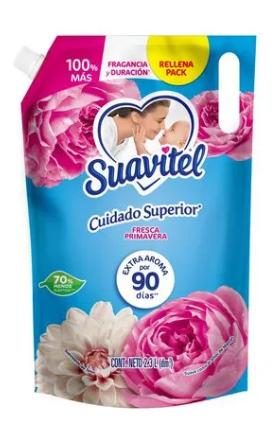brand: (76, 141, 217, 200)
net_weight: (143, 354, 158, 371)
product_name: (81, 201, 203, 239)
